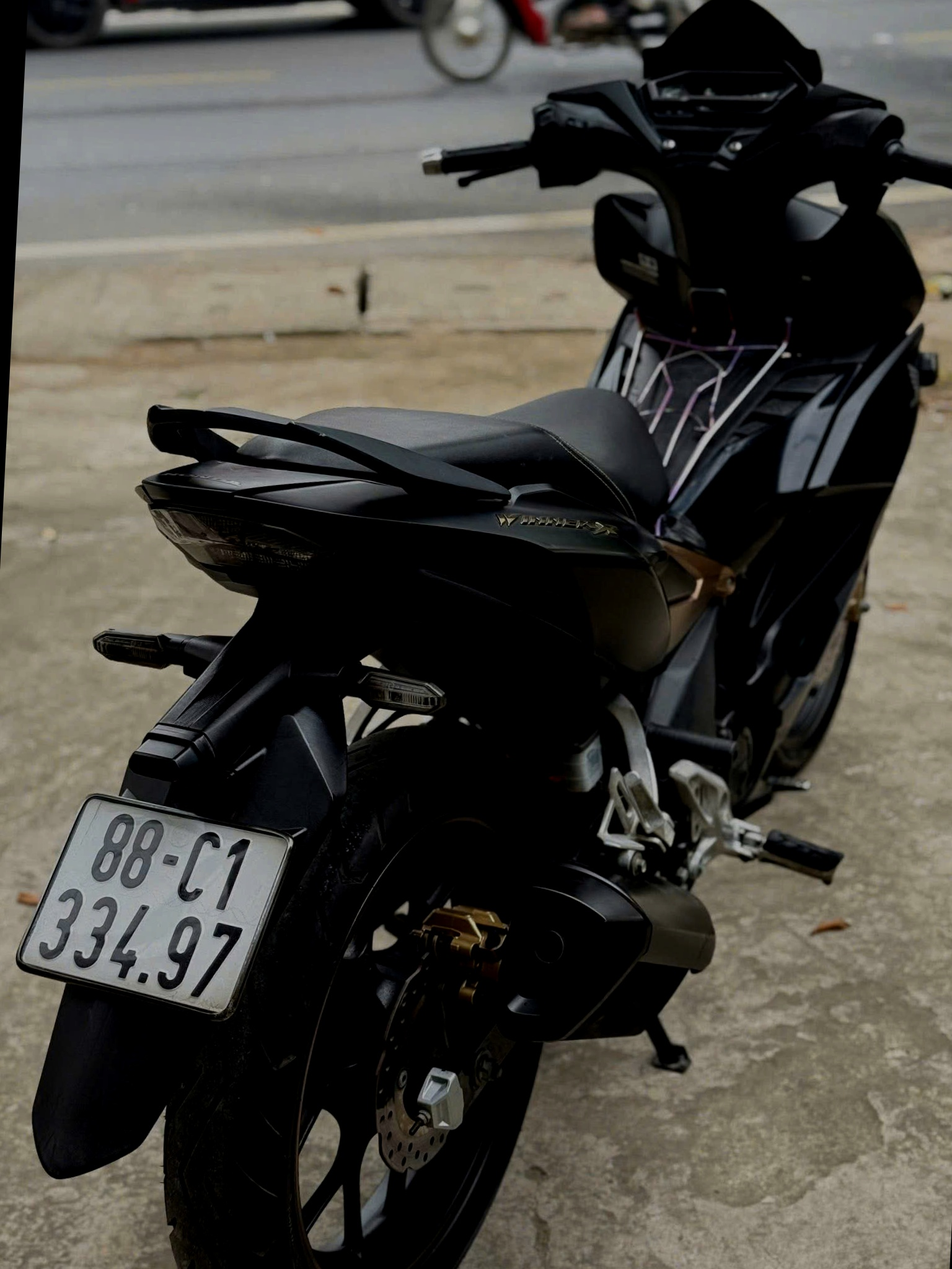Bien-so: (14, 786, 296, 1021)
